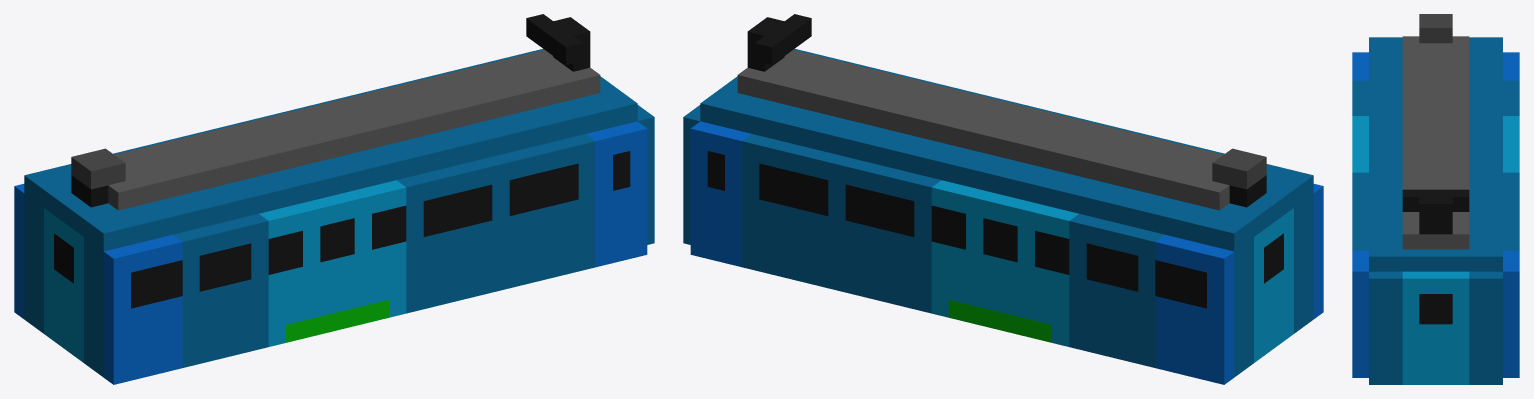
File: train.obj
The picture shows the model from 3 angles, left to right: view 1: azimuth 30°, elevation 25°; view 2: azimuth 150°, elevation 25°; view 3: azimuth 270°, elevation 25°; orthographic projection. The views are drawn at different scales.
Visible parts, largest first — view 1: train; view 2: train; view 3: train.
Boxes of the visible parts, bbox=[...] form: train: bbox=[14, 14, 654, 384]; train: bbox=[683, 14, 1323, 384]; train: bbox=[1352, 14, 1519, 384].
Bounding box in the file's own units: 32 × 11 × 10.
Materials: 1 (1 with a texture image).
